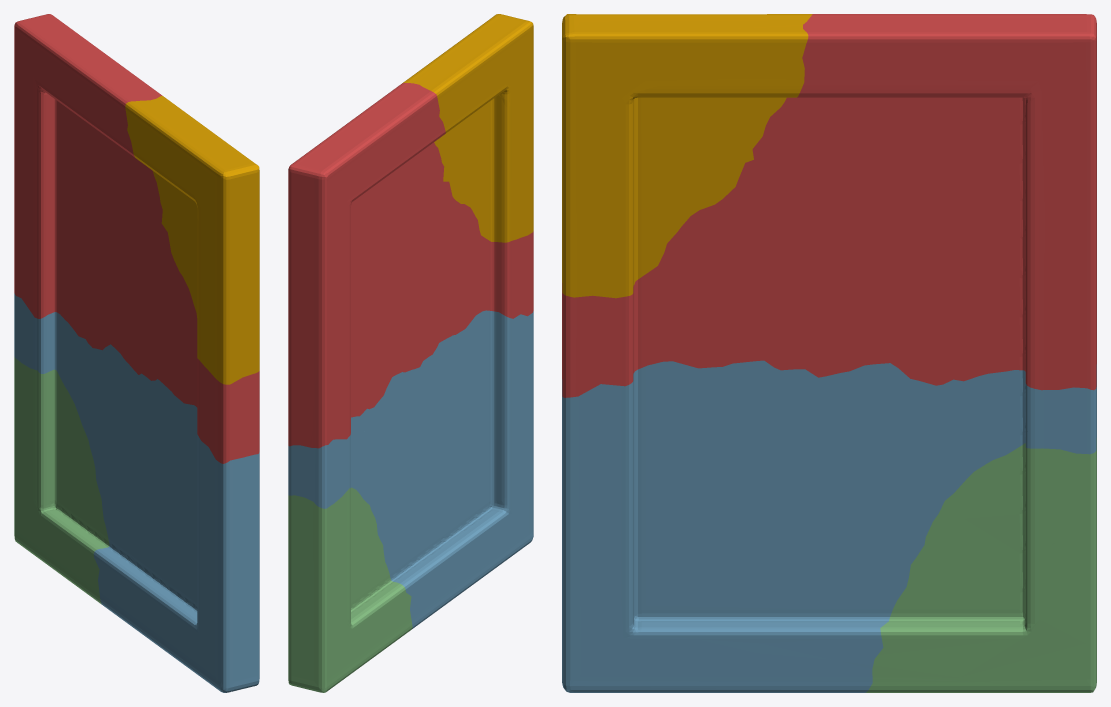
Rendered from fractured_50_4pcs.glb.
3 renders of one model, left to right at view 1: azimuth 30°, elevation 25°; view 2: azimuth 150°, elevation 25°; view 3: azimuth 270°, elevation 25°, orthographic. The views are drawn at different scales.
Visible parts, largest first — view 1: piece_1.obj, piece_2.obj, piece_0.obj, piece_3.obj; view 2: piece_1.obj, piece_2.obj, piece_0.obj, piece_3.obj; view 3: piece_1.obj, piece_2.obj, piece_0.obj, piece_3.obj.
Part boxes in pixels (box(x1,y1,x2,y2)): piece_1.obj: box(14, 14, 259, 463); piece_2.obj: box(14, 293, 259, 692); piece_0.obj: box(125, 96, 259, 384); piece_3.obj: box(14, 356, 109, 604); piece_1.obj: box(288, 83, 533, 448); piece_2.obj: box(288, 310, 533, 628); piece_0.obj: box(402, 14, 533, 242); piece_3.obj: box(288, 487, 412, 692); piece_1.obj: box(562, 14, 1096, 397); piece_2.obj: box(562, 360, 1096, 692); piece_0.obj: box(562, 14, 812, 298); piece_3.obj: box(865, 438, 1096, 692).
Bounding box in the file's own units: 0.0765 × 1 × 0.7347.
